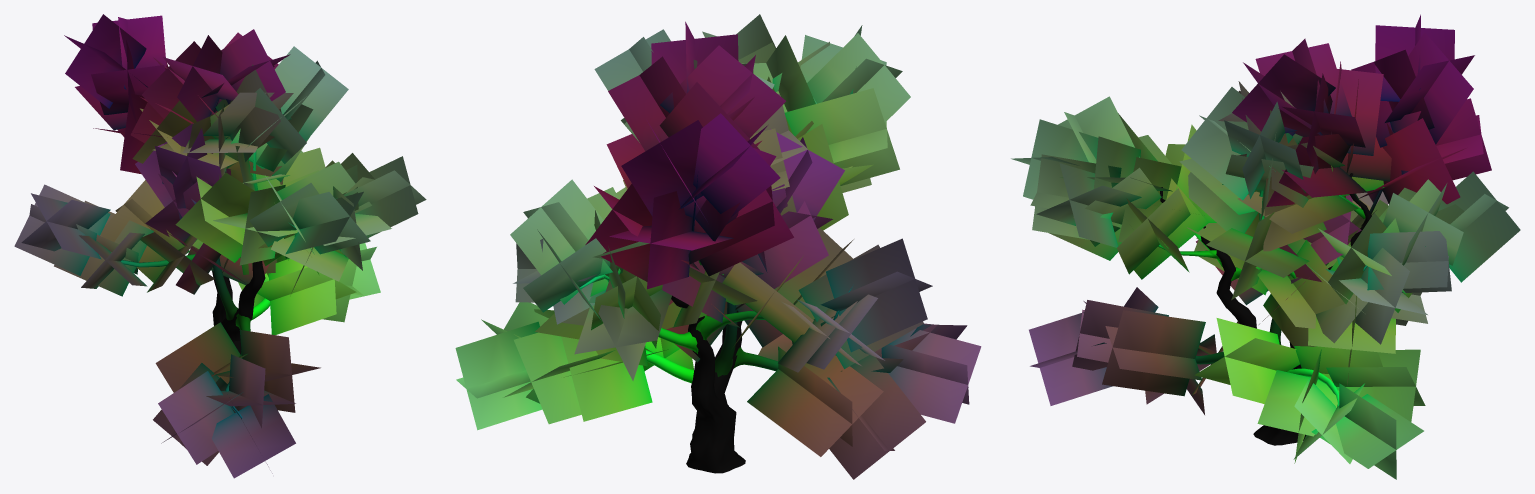
Rendered from URP_P11_Tree_9_LOD_0.fbx.
3 views of the same model, side by side, from view 1: azimuth 30°, elevation 25°; view 2: azimuth 150°, elevation 25°; view 3: azimuth 270°, elevation 25° (orthographic). The views are drawn at different scales.
Visible parts, largest first — view 1: Tree_9_LOD_0; view 2: Tree_9_LOD_0; view 3: Tree_9_LOD_0.
Boxes of the visible parts, box(x1,y1,x2,y2) form: Tree_9_LOD_0: box(14, 14, 426, 478); Tree_9_LOD_0: box(455, 14, 981, 479); Tree_9_LOD_0: box(1011, 14, 1520, 479).
Bounding box in the file's own units: 599 × 588 × 654.
